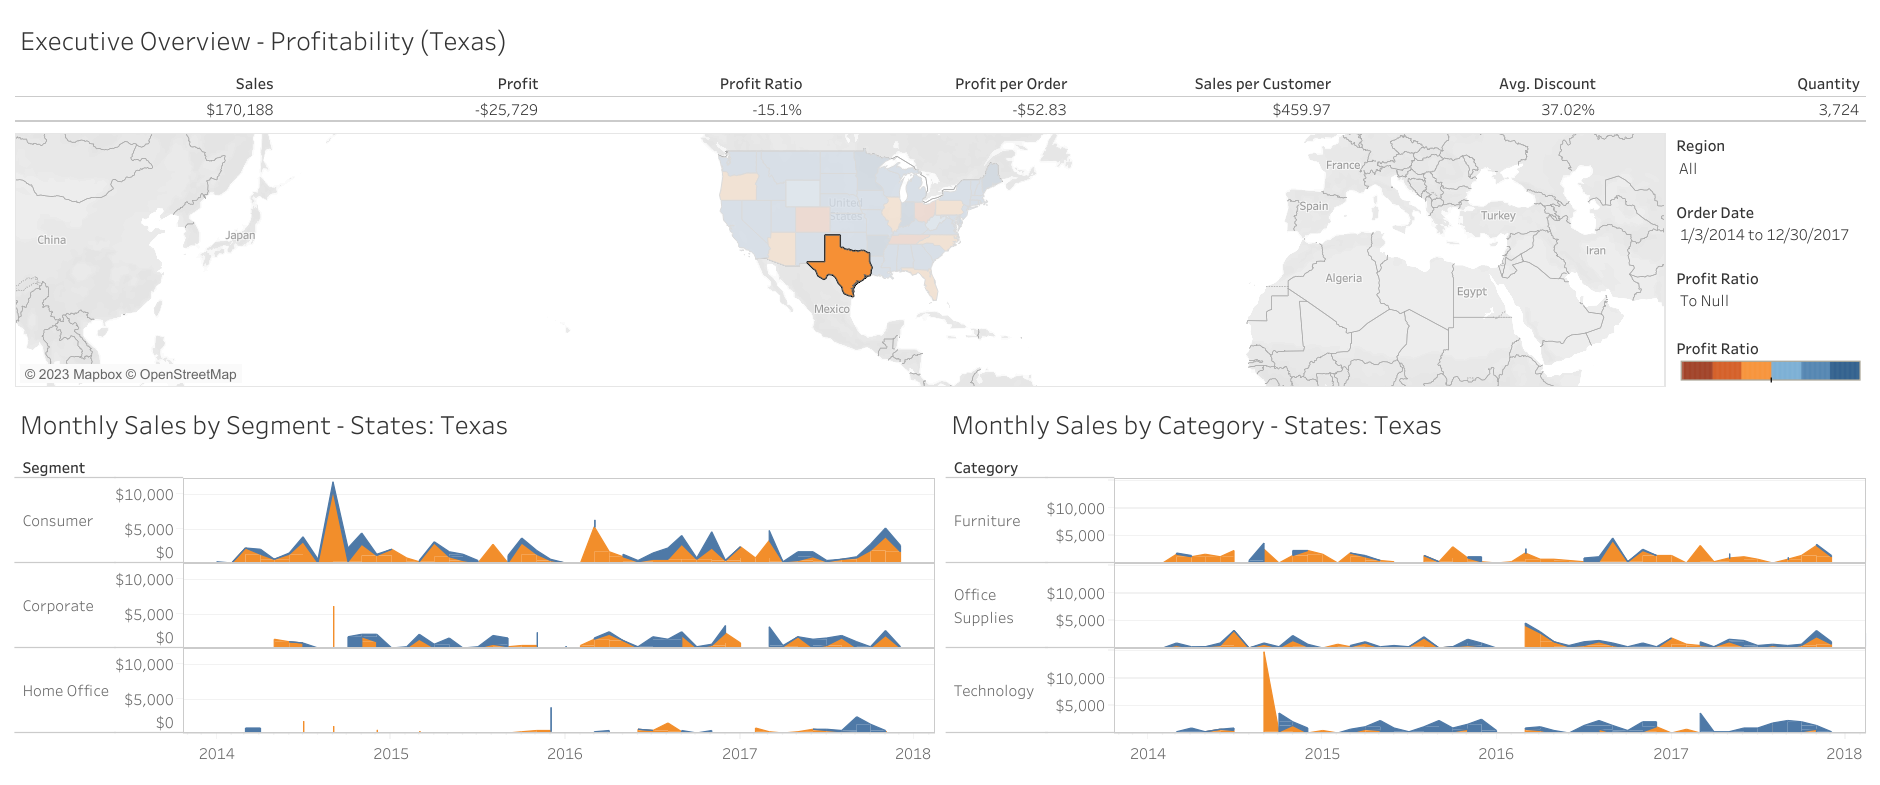

The page's visual inventory and layout, read from the dashboard file:
{"tool":"tableau","page":{"name":"Executive Overview","canvas":[1000,1000],"units":"permille","ordinal":0},"visuals":[{"type":"worksheet","title":"Key Performance Indicators","mark":"Automatic","box":[6.1,13.6,987.8,159.3]},{"type":"worksheet","title":"Profit Ratio by Geography","mark":"Automatic","box":[6.1,172.9,866,327.1]},{"type":"filter","title":"Profit Ratio by Geography","param":"[federated.1x849d10y8bvif1a6nd4x0orzvbk].[none:Region:nk]","box":[872.1,172.9,121.9,81.8]},{"type":"filter","title":"Sales by Segment","param":"[federated.1x849d10y8bvif1a6nd4x0orzvbk].[none:Order Date:qk]","box":[872.1,254.7,121.9,81.8]},{"type":"filter","title":"Profit Ratio by Geography","param":"[federated.1x849d10y8bvif1a6nd4x0orzvbk].[usr:Calculation_155726052027105283:qk]","box":[872.1,336.4,121.9,81.8]},{"type":"legend","title":"Profit Ratio by Geography","param":"[federated.1x849d10y8bvif1a6nd4x0orzvbk].[usr:Calculation_155726052027105283:qk]","box":[872.1,418.2,121.9,81.8]},{"type":"worksheet","title":"Sales by Segment","mark":"Area","rows":["Segment","Sales"],"cols":["Order Date"],"box":[6.1,500,493.9,486.4]},{"type":"worksheet","title":"Sales by Category","mark":"Area","rows":["Category","Sales"],"cols":["Order Date"],"box":[500,500,493.9,486.4]}]}

Visuals, with their boxes on the dashboard's canvas, which has no fixed pixel size, in thousandths of its width and height (x1, y1, x2, y2). These are canvas units, not pixel positions in the 1880x785 screenshot, which may show the page scaled, cropped or inside an application window:
"Key Performance Indicators" worksheet: BBox(6, 14, 994, 173)
"Profit Ratio by Geography" worksheet: BBox(6, 173, 872, 500)
"Profit Ratio by Geography" filter: BBox(872, 173, 994, 255)
"Sales by Segment" filter: BBox(872, 255, 994, 336)
"Profit Ratio by Geography" filter: BBox(872, 336, 994, 418)
"Profit Ratio by Geography" legend: BBox(872, 418, 994, 500)
"Sales by Segment" worksheet (Area marks): BBox(6, 500, 500, 986)
"Sales by Category" worksheet (Area marks): BBox(500, 500, 994, 986)
